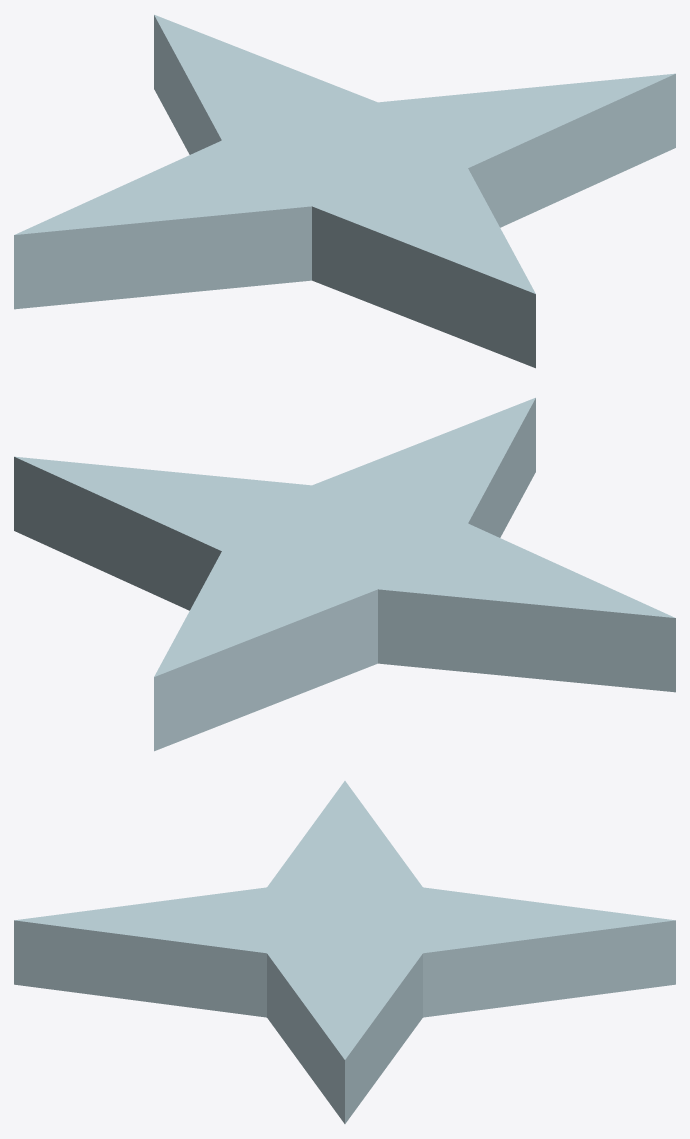
File: boss-dart.glb
3 renders of one model, top to bottom at view 1: azimuth 30°, elevation 25°; view 2: azimuth 150°, elevation 25°; view 3: azimuth 270°, elevation 25°, orthographic. The views are drawn at different scales.
Parts seen in each view (by area): view 1: BossDart; view 2: BossDart; view 3: BossDart.
Part boxes in pixels (box(x1,y1,x2,y2)): BossDart: box(14, 14, 675, 368); BossDart: box(14, 397, 675, 751); BossDart: box(14, 781, 675, 1123).
Size of the model in its own units: 0.84 by 0.09 by 0.84.
